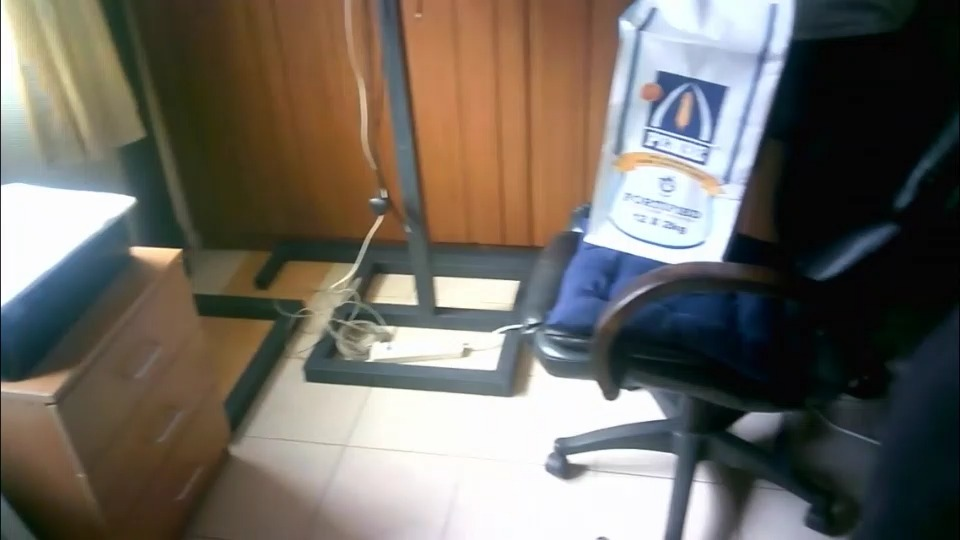wheat_flour_blue_label: (582, 0, 793, 264)
